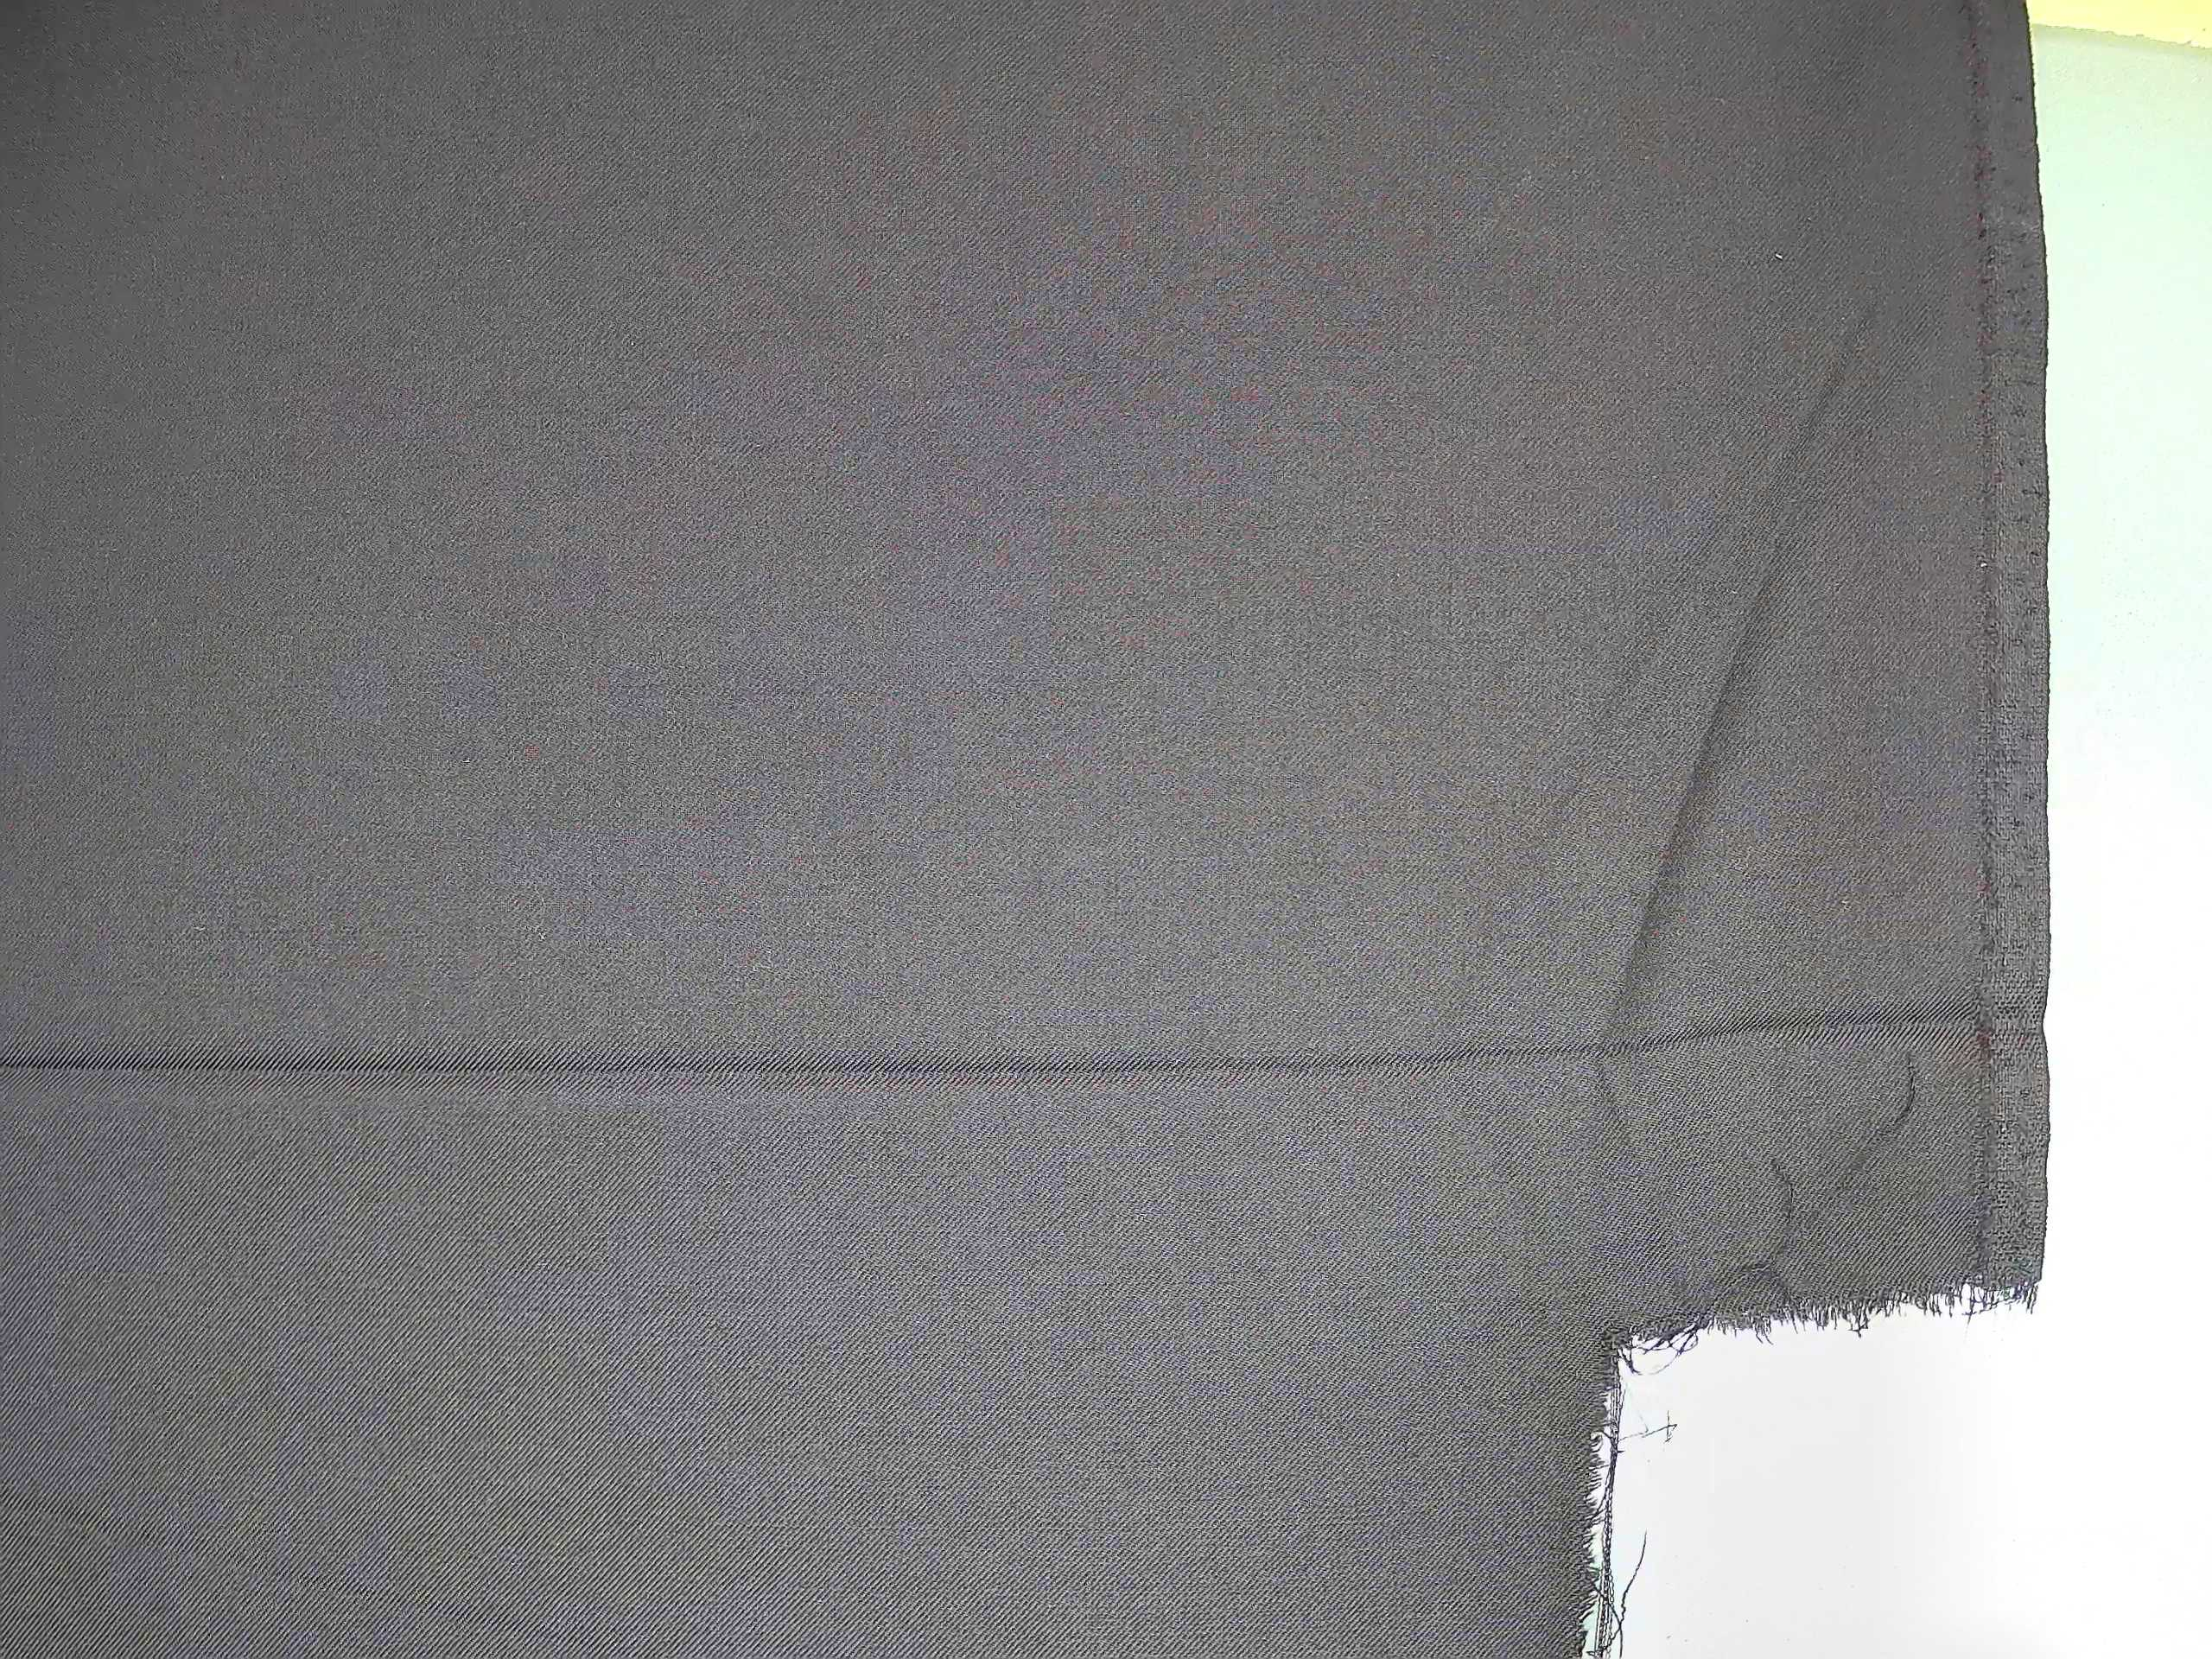others: (1534, 1237, 2099, 1659)
